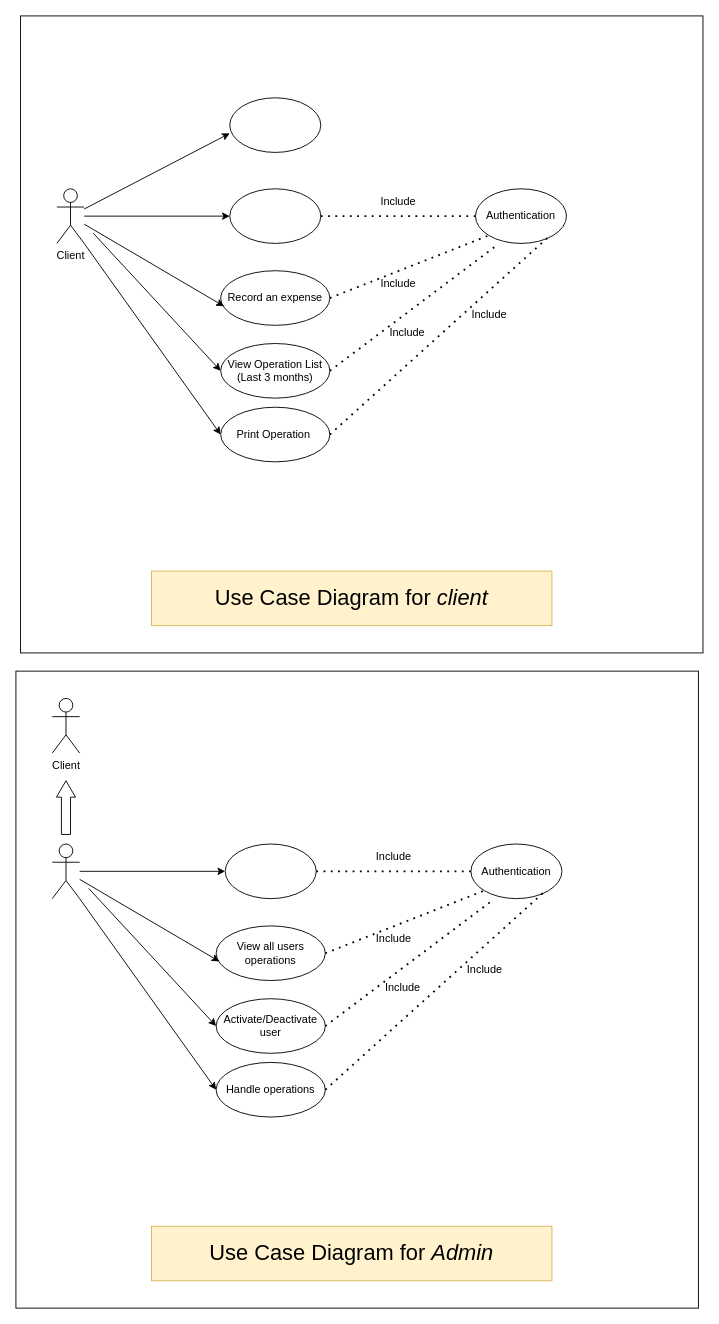
This 719x1324 diagram has some shape labels left out. The box of each missing label's shape, as (x1, y1, x2, y2) in pixels:
Admin: (51, 843, 80, 899)
Declare Income: (229, 188, 321, 243)
Register: (229, 97, 321, 152)
View all users: (224, 843, 316, 899)
